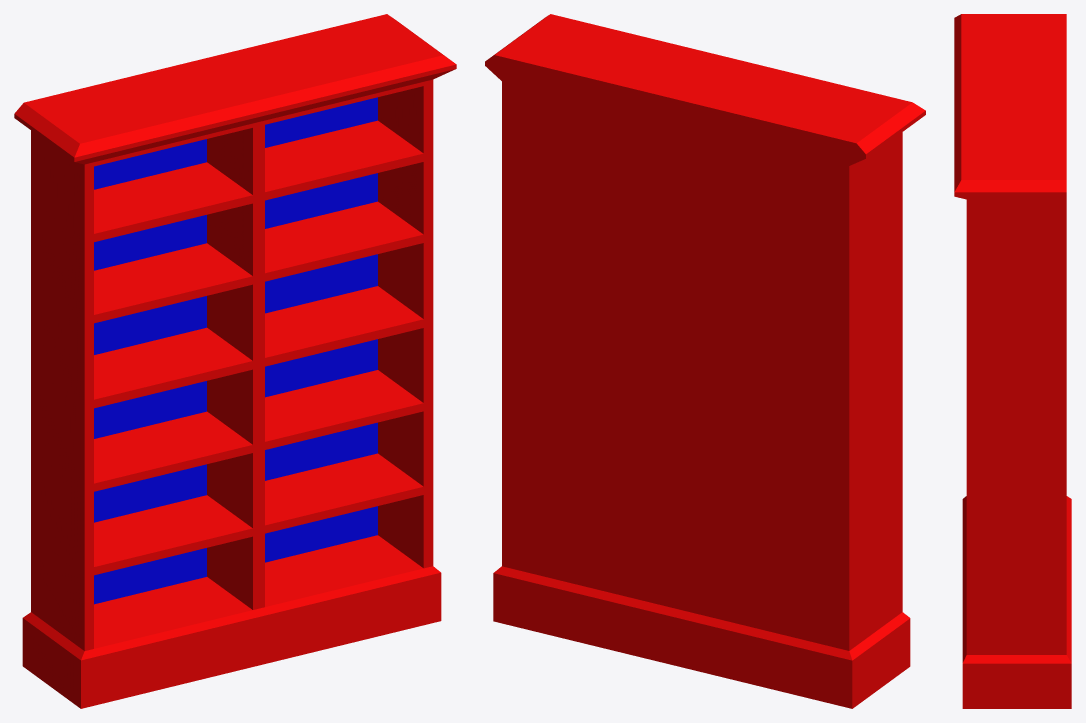
The model's file is Repisa.fbx.
3 renders of one model, left to right at view 1: azimuth 30°, elevation 25°; view 2: azimuth 150°, elevation 25°; view 3: azimuth 270°, elevation 25°, orthographic. The views are drawn at different scales.
Parts seen in each view (by area): view 1: Repisa; view 2: Repisa; view 3: Repisa.
Part boxes in pixels (x1,y1,x2,y2): Repisa: [14, 14, 456, 708]; Repisa: [485, 14, 925, 708]; Repisa: [954, 14, 1071, 708].
Bounding box in the file's own units: 141 × 200 × 40.17.
